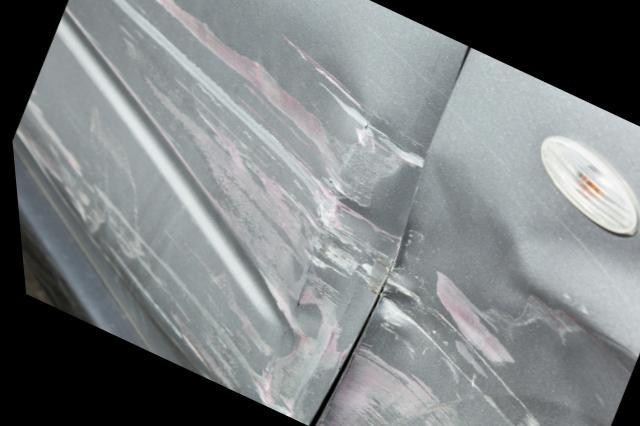dent: (308, 155, 630, 426), (250, 28, 420, 426)
rub: (10, 0, 289, 402)
